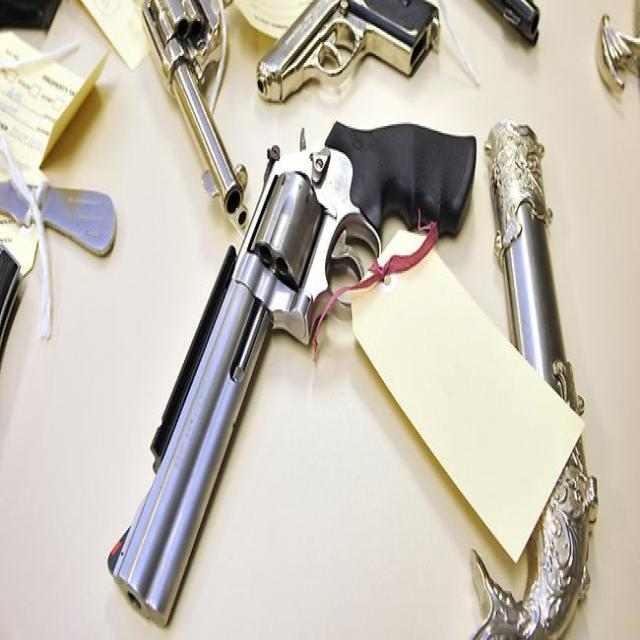gun: (90, 125, 482, 618)
